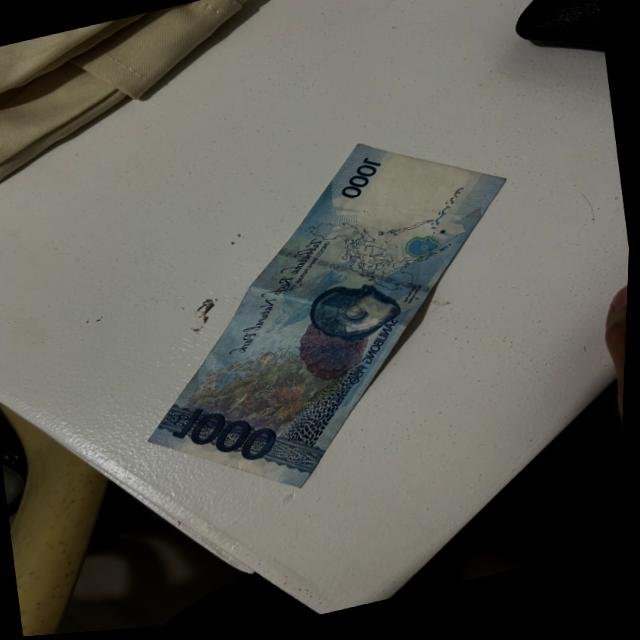1000_pearl: (310, 279, 404, 353)
1000_pearl_watermark: (405, 238, 443, 267)
